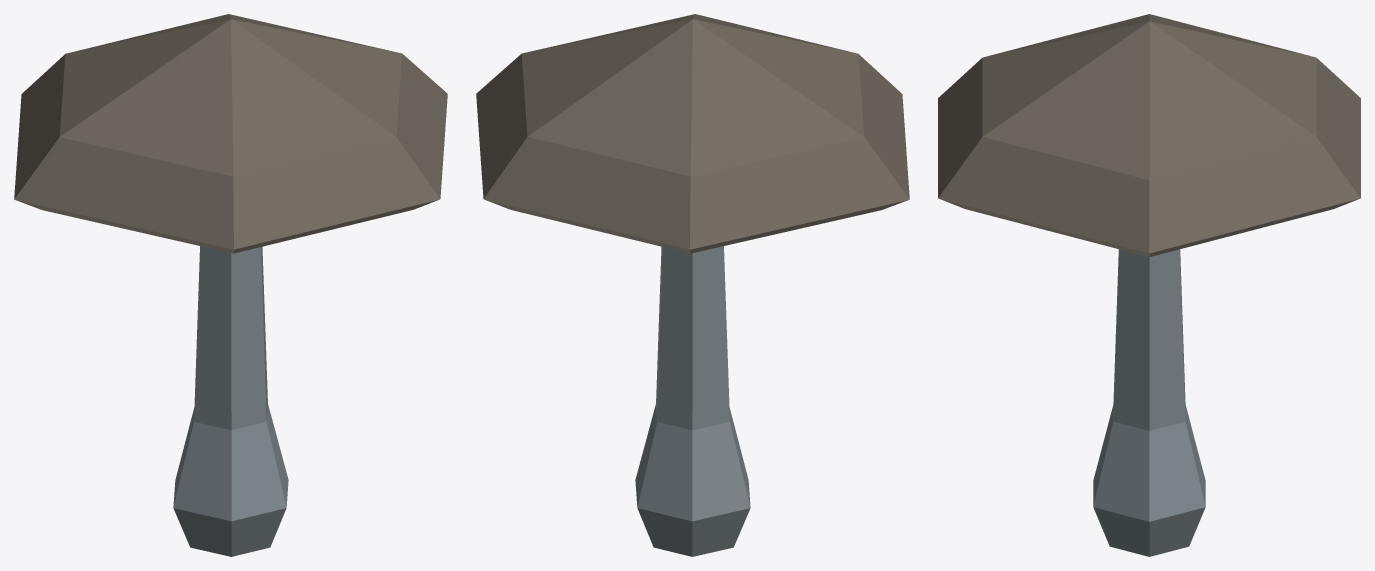
The model's file is Mushroom-A03.fbx.
3 renders of one model, left to right at view 1: azimuth 30°, elevation 25°; view 2: azimuth 150°, elevation 25°; view 3: azimuth 270°, elevation 25°, orthographic.
Visible parts, largest first — view 1: Mushroom-A03; view 2: Mushroom-A03; view 3: Mushroom-A03.
Part boxes in pixels (x1=…): Mushroom-A03: x1=14, y1=14, x2=447, y2=556; Mushroom-A03: x1=476, y1=14, x2=909, y2=556; Mushroom-A03: x1=938, y1=14, x2=1360, y2=556.
Bounding box in the file's own units: 55.61 × 63.53 × 47.19.
